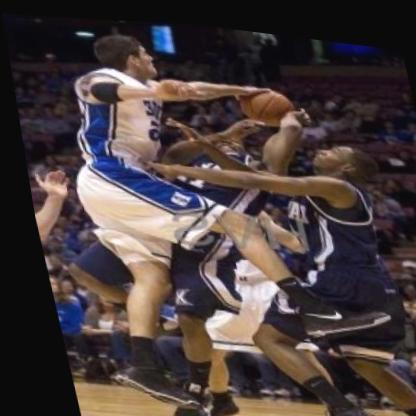basketball: (226, 72, 298, 130)
